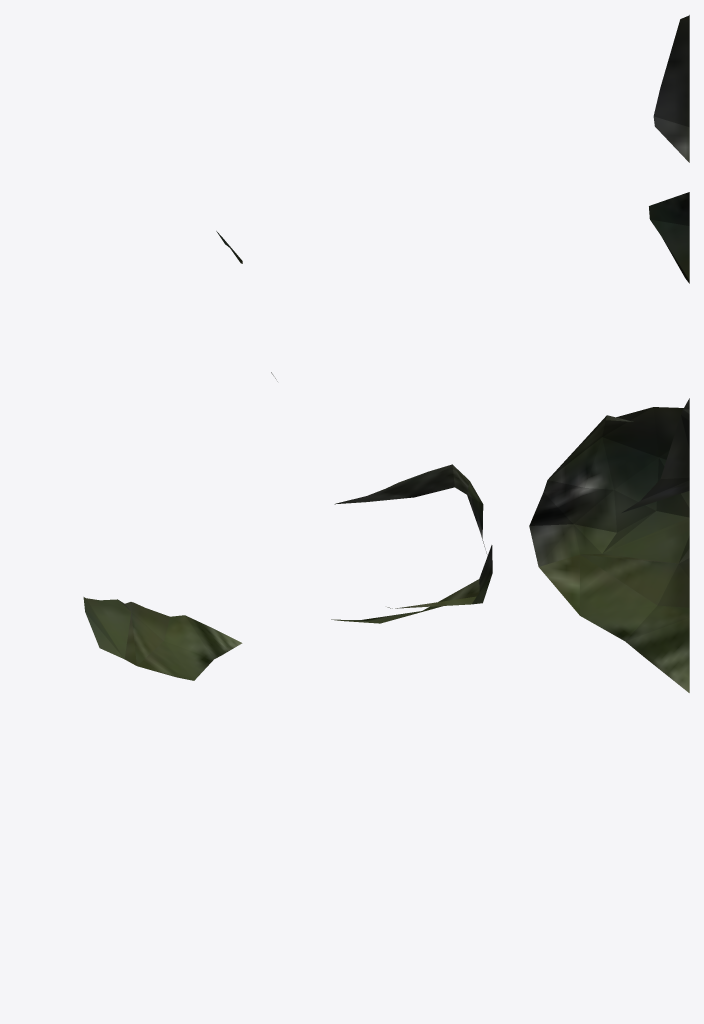
The picture shows the model from 3 angles, left to right: view 1: azimuth 30°, elevation 25°; view 2: azimuth 150°, elevation 25°; view 3: azimuth 270°, elevation 25°; orthographic projection. The views are drawn at different scales.
Bounding box in the file's own units: 1.22 × 4.91 × 0.6907.
Materials: 1 (1 with a texture image).
